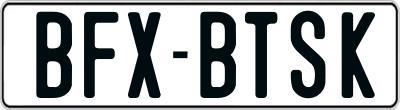B: (35, 10, 76, 101), (198, 11, 238, 103)
F: (82, 11, 119, 102)
K: (341, 11, 380, 103)
S: (288, 10, 328, 100)
T: (242, 9, 275, 99)
X: (125, 12, 162, 104)
